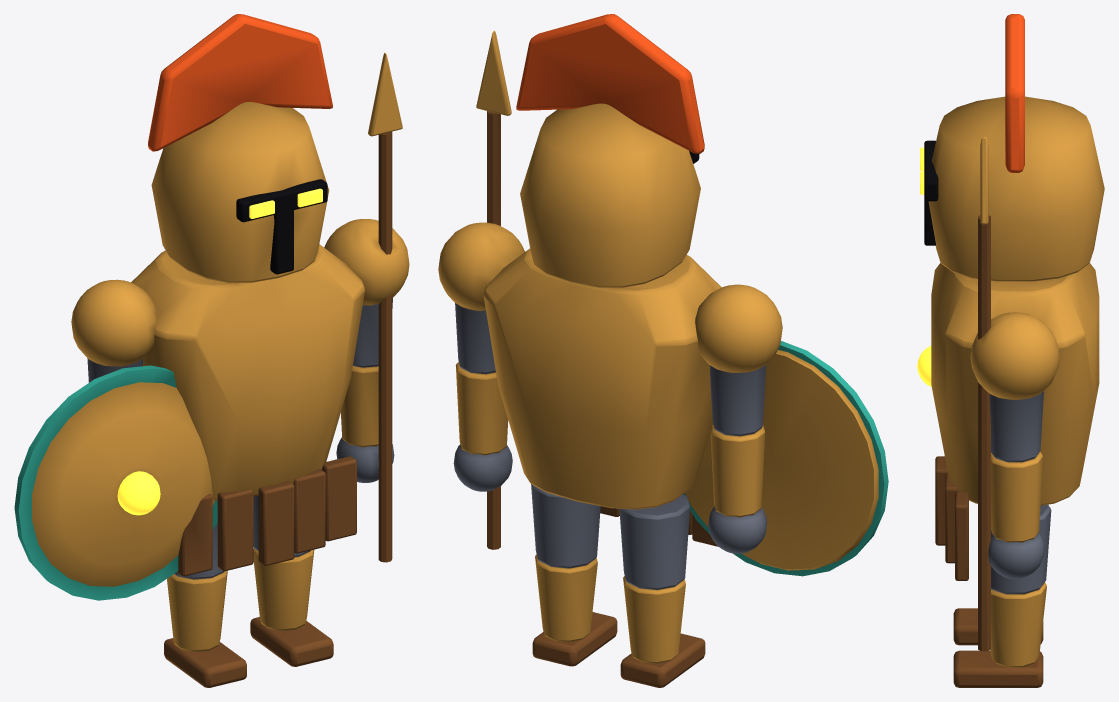
File: alien_hoplite.glb
3 views of the same model, side by side, from view 1: azimuth 30°, elevation 25°; view 2: azimuth 150°, elevation 25°; view 3: azimuth 270°, elevation 25° (orthographic).
Visible parts, largest first — view 1: cuirass, shield, helmet, crest, shield_rim, shoulder, spear, shoulder.001, greave, greave.001, strap.002, strap.001 (+12 smaller); view 2: cuirass, helmet, shield, crest, shoulder, thigh, shoulder.001, thigh.001, bracer, greave.001, greave, bracer.001 (+9 smaller); view 3: helmet, cuirass, shoulder.001, spear, bracer.001, greave.001, upper.001, crest, sandal.001, fist.001, thigh.001, strap.004 (+7 smaller).
Part boxes in pixels (x1=…): cuirass: x1=131, y1=244, x2=364, y2=500; shield: x1=32, y1=382, x2=214, y2=586; helmet: x1=151, y1=102, x2=329, y2=282; crest: x1=148, y1=14, x2=332, y2=151; shield_rim: x1=14, y1=365, x2=217, y2=600; shoulder: x1=71, y1=279, x2=157, y2=366; spear: x1=378, y1=131, x2=392, y2=562; shoulder.001: x1=324, y1=219, x2=409, y2=305; greave: x1=167, y1=570, x2=227, y2=651; greave.001: x1=253, y1=548, x2=314, y2=630; strap.002: x1=258, y1=481, x2=294, y2=565; strap.001: x1=217, y1=489, x2=253, y2=571; cuirass: x1=483, y1=248, x2=721, y2=509; helmet: x1=520, y1=103, x2=700, y2=287; shield: x1=685, y1=350, x2=878, y2=570; crest: x1=516, y1=14, x2=704, y2=153; shoulder: x1=695, y1=284, x2=782, y2=372; thigh: x1=619, y1=494, x2=690, y2=589; shoulder.001: x1=438, y1=222, x2=524, y2=310; thigh.001: x1=531, y1=484, x2=600, y2=568; bracer: x1=710, y1=424, x2=765, y2=517; greave.001: x1=535, y1=554, x2=597, y2=642; greave: x1=623, y1=576, x2=685, y2=663; bracer.001: x1=455, y1=362, x2=508, y2=455; helmet: x1=928, y1=96, x2=1104, y2=281; cuirass: x1=931, y1=262, x2=1099, y2=505; shoulder.001: x1=970, y1=312, x2=1059, y2=399; spear: x1=978, y1=215, x2=990, y2=651; bracer.001: x1=990, y1=452, x2=1042, y2=542; greave.001: x1=990, y1=582, x2=1046, y2=667; upper.001: x1=989, y1=391, x2=1043, y2=462; crest: x1=1005, y1=14, x2=1024, y2=172; sandal.001: x1=953, y1=650, x2=1043, y2=687; fist.001: x1=988, y1=532, x2=1044, y2=578; thigh.001: x1=991, y1=504, x2=1051, y2=594; strap.004: x1=955, y1=491, x2=968, y2=580.
Bounding box in the file's own units: 1.71 × 2.54 × 0.67.
